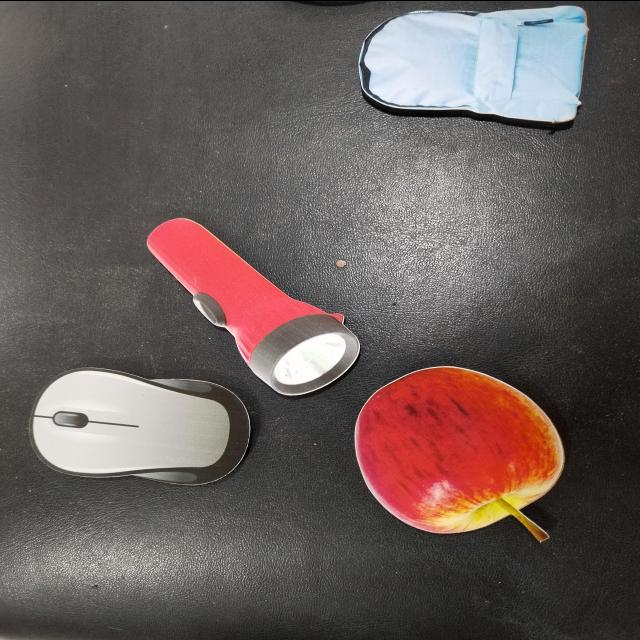Other Objects: (146, 217, 362, 396), (354, 365, 566, 542), (359, 5, 590, 123), (29, 366, 252, 486)
